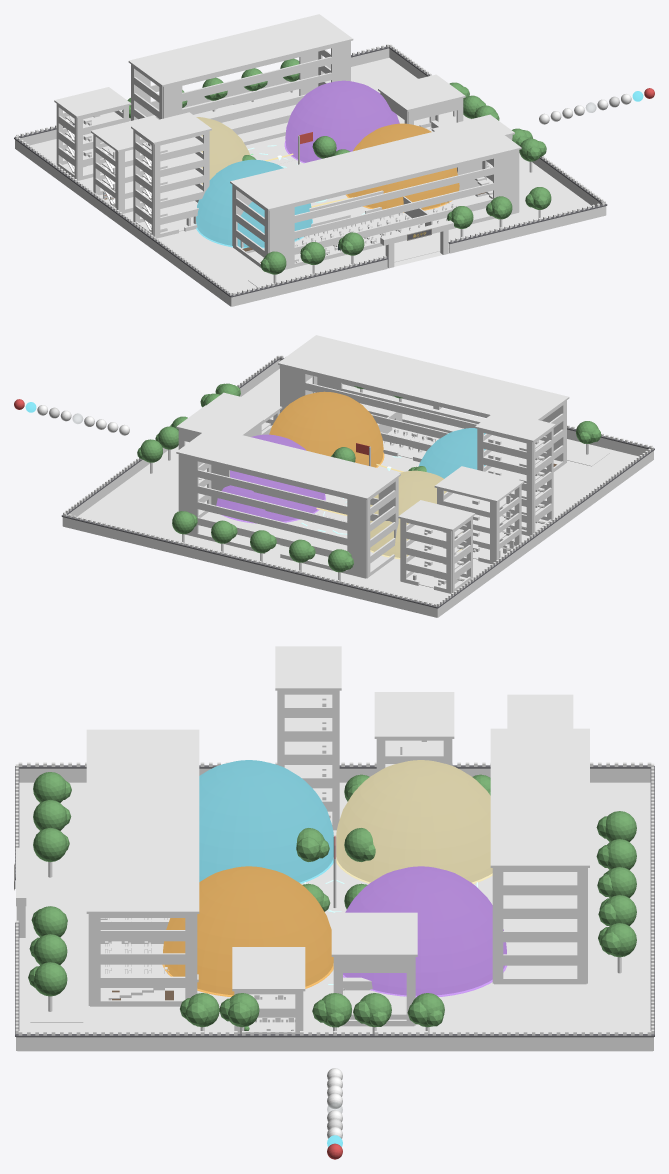
File: campus_td.glb
3 renders of one model, top to bottom at view 1: azimuth 30°, elevation 25°; view 2: azimuth 150°, elevation 25°; view 3: azimuth 270°, elevation 25°, orthographic. The views are drawn at different scales.
Parts seen in each view (by area): view 1: Ground, Bldg_Teach_Roof, Bldg_Teach_WY-1, Bldg_Lab_Roof, Bldg_Lab_WY-1, M7_Range_Tower_3, M7_Range_Tower_1, M11_PlazaFront, Bldg_Dorm_WY-1, M7_Range_Tower_2, M11_WallLeft, Int_Teach_Floor (+23 smaller); view 2: Ground, Bldg_Teach_Roof, Bldg_Lab_WY1, Bldg_Lab_Roof, M7_Range_Tower_2, Bldg_Teach_WY1, M11_WallBack, M7_Range_Tower_3, M11_WallLeft, Bldg_Admin_WY1, M7_Range_Tower_4, M7_Range_Tower_1 (+26 smaller); view 3: Ground, Bldg_Teach_Roof, M7_Range_Tower_4, Bldg_Lab_Roof, M7_Range_Tower_1, M7_Range_Tower_2, M7_Range_Tower_3, M11_WallRight, M11_PlazaFront, Bldg_Lab_WX1, Bldg_Teach_WX1, Bldg_Gym_Roof (+23 smaller).
Boxes of the visible parts, left/top/right/bottom form: Ground: left=29, top=57, right=591, bottom=294; Bldg_Teach_Roof: left=230, top=119, right=521, bottom=210; Bldg_Teach_WY-1: left=269, top=150, right=518, bottom=273; Bldg_Lab_Roof: left=128, top=14, right=353, bottom=86; Bldg_Lab_WY-1: left=163, top=41, right=350, bottom=145; M7_Range_Tower_3: left=285, top=80, right=399, bottom=162; M7_Range_Tower_1: left=196, top=159, right=312, bottom=247; M11_PlazaFront: left=248, top=209, right=552, bottom=287; Bldg_Dorm_WY-1: left=154, top=131, right=209, bottom=238; M7_Range_Tower_2: left=347, top=123, right=459, bottom=209; M11_WallLeft: left=15, top=140, right=231, bottom=306; Int_Teach_Floor: left=241, top=194, right=491, bottom=262; Ground: left=76, top=368, right=639, bottom=604; Bldg_Teach_Roof: left=278, top=335, right=569, bottom=420; Bldg_Lab_WY1: left=179, top=454, right=366, bottom=578; Bldg_Lab_Roof: left=176, top=427, right=400, bottom=499; M7_Range_Tower_2: left=269, top=391, right=383, bottom=467; Bldg_Teach_WY1: left=280, top=365, right=488, bottom=462; M11_WallBack: left=63, top=517, right=437, bottom=617; M7_Range_Tower_3: left=216, top=434, right=324, bottom=521; M11_WallLeft: left=437, top=451, right=653, bottom=617; Bldg_Admin_WY1: left=400, top=519, right=451, bottom=593; M7_Range_Tower_4: left=370, top=470, right=461, bottom=557; M7_Range_Tower_1: left=418, top=428, right=485, bottom=478; Ground: left=19, top=782, right=650, bottom=1033; Bldg_Teach_Roof: left=86, top=729, right=199, bottom=913; M7_Range_Tower_4: left=336, top=760, right=492, bottom=882; Bldg_Lab_Roof: left=490, top=728, right=589, bottom=867; M7_Range_Tower_1: left=199, top=760, right=333, bottom=882; M7_Range_Tower_2: left=163, top=866, right=333, bottom=995; M7_Range_Tower_3: left=343, top=866, right=506, bottom=995; M11_WallRight: left=17, top=1037, right=652, bottom=1051; M11_PlazaFront: left=30, top=809, right=83, bottom=1022; Bldg_Lab_WX1: left=494, top=868, right=586, bottom=984; Bldg_Teach_WX1: left=90, top=914, right=195, bottom=1006; Bldg_Gym_Roof: left=331, top=912, right=417, bottom=956.
Size of the model in its own units: 137 by 35.3 by 96.81.
